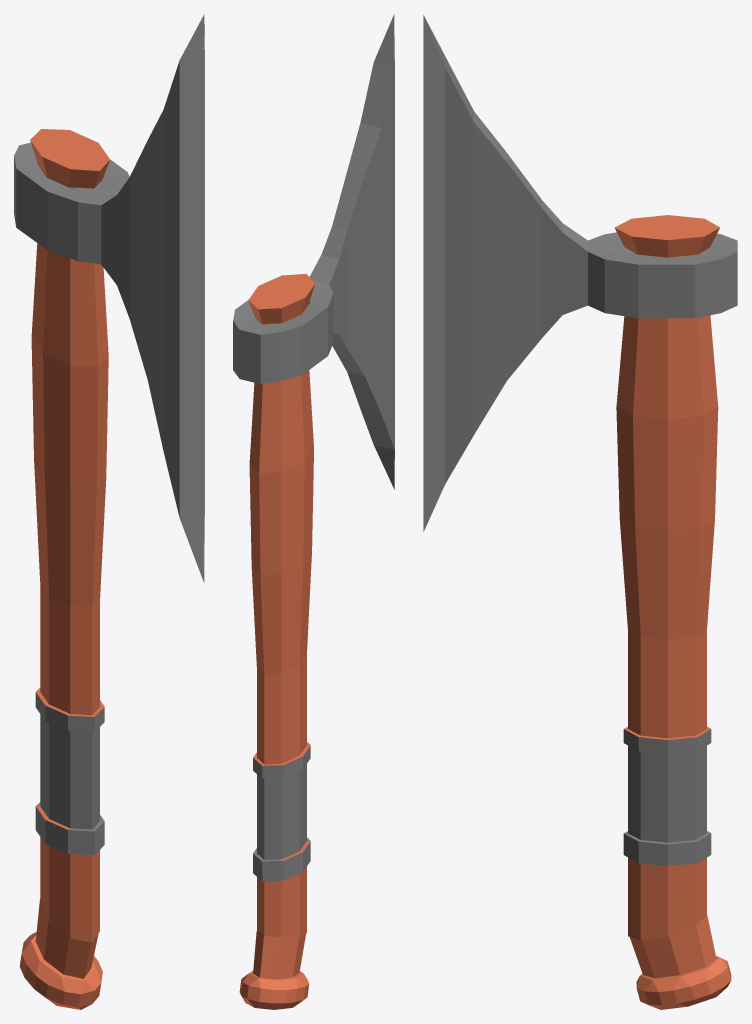
The model's file is kurva.fbx.
3 views of the same model, side by side, from view 1: azimuth 30°, elevation 25°; view 2: azimuth 150°, elevation 25°; view 3: azimuth 270°, elevation 25° (orthographic). The views are drawn at different scales.
Parts seen in each view (by area): view 1: Cube.001; view 2: Cube.001; view 3: Cube.001.
Boxes of the visible parts, <box> form: Cube.001: <box>14,14,204,1009</box>; Cube.001: <box>233,14,394,1009</box>; Cube.001: <box>423,15,737,1009</box>.
Size of the model in its own units: 285 by 3685 by 1060.
